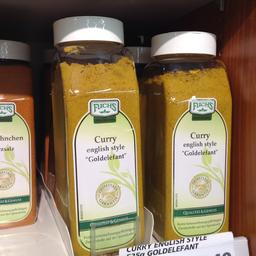spices: (50, 14, 144, 252), (147, 27, 232, 240), (0, 38, 38, 228)
